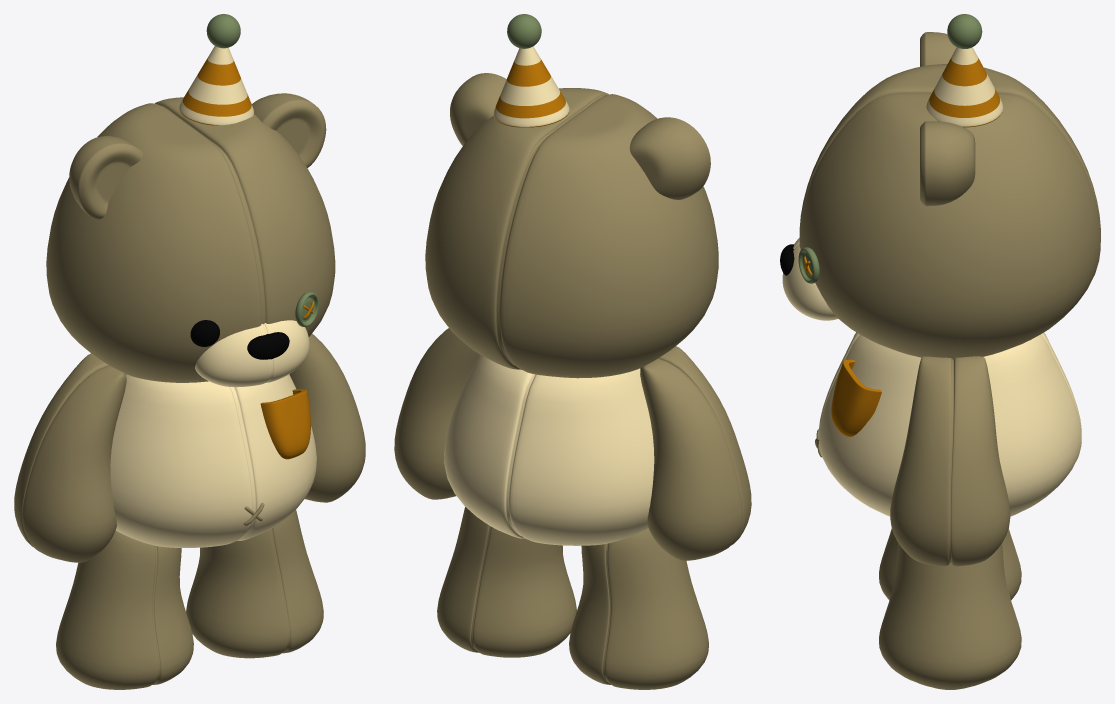
File: bear.fbx
3 views of the same model, side by side, from view 1: azimuth 30°, elevation 25°; view 2: azimuth 150°, elevation 25°; view 3: azimuth 270°, elevation 25° (orthographic). The views are drawn at different scales.
Parts seen in each view (by area): view 1: bear; view 2: bear; view 3: bear.
Part boxes in pixels (x1,y1,x2,y2): bear: [14, 14, 365, 689]; bear: [394, 14, 751, 689]; bear: [780, 14, 1100, 689].
Bounding box in the file's own units: 9.02 × 16.15 × 7.29.
